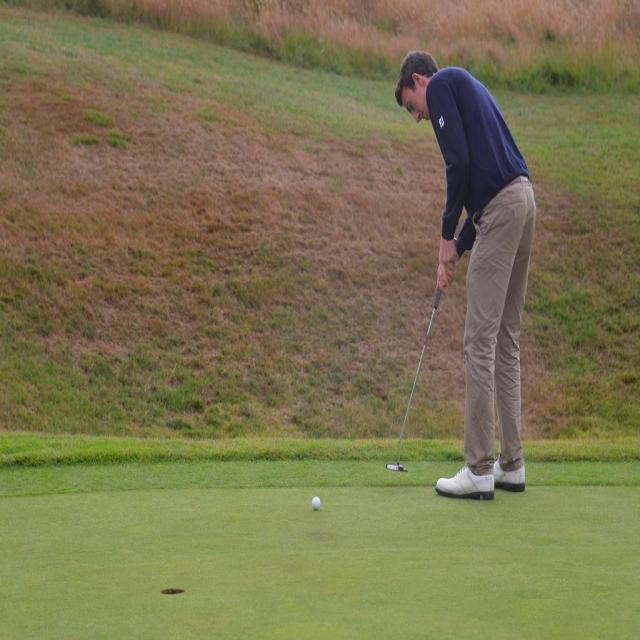ClubHead: (381, 450, 418, 480)
GolfBall: (306, 493, 324, 512)
